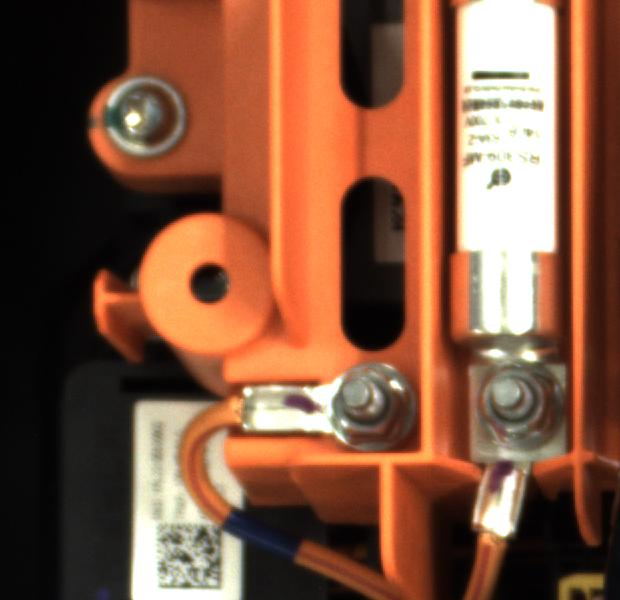screw_m: (102, 69, 206, 165)
screw_s: (318, 357, 428, 451), (472, 355, 570, 445)
